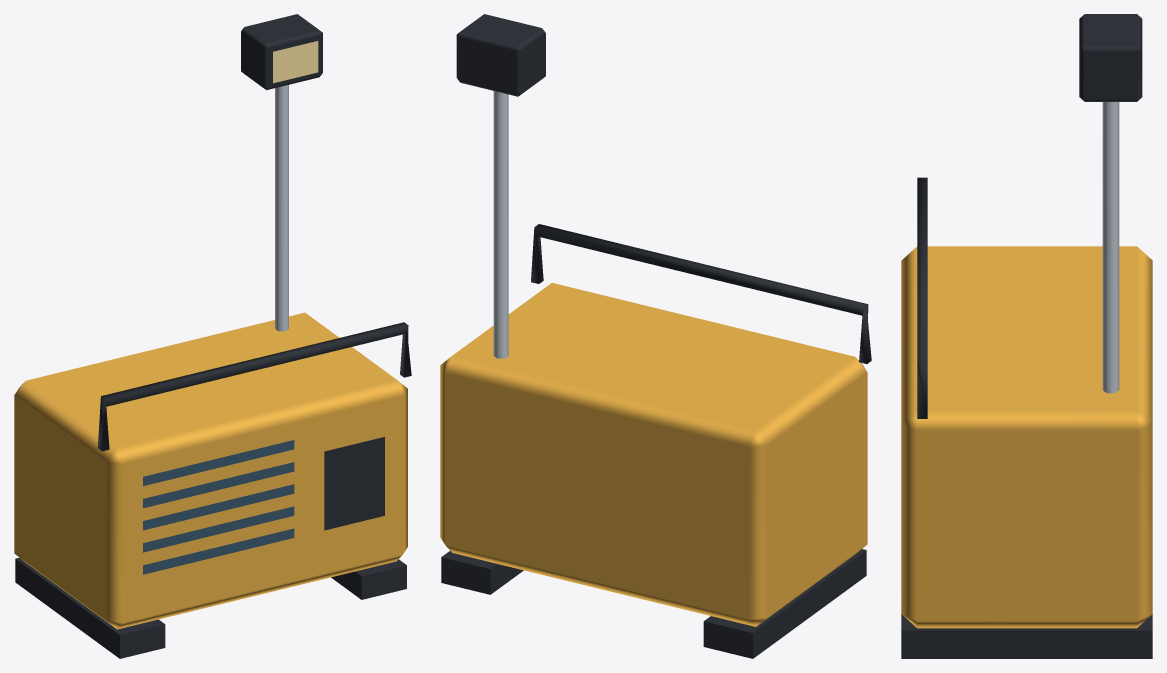
File: CM_Event_Generator.fbx
3 views of the same model, side by side, from view 1: azimuth 30°, elevation 25°; view 2: azimuth 150°, elevation 25°; view 3: azimuth 270°, elevation 25° (orthographic). The views are drawn at different scales.
Parts seen in each view (by area): view 1: Body, Light; view 2: Body; view 3: Body.
Part boxes in pixels (left/top/right/bottom): Body: left=14, top=14, right=411, bottom=658; Light: left=273, top=41, right=318, bottom=83; Body: left=440, top=14, right=871, bottom=658; Body: left=901, top=14, right=1152, bottom=658.
Size of the model in its own units: 4.1 by 2.41 by 6.4.
Materials: 1 (1 with a texture image).
